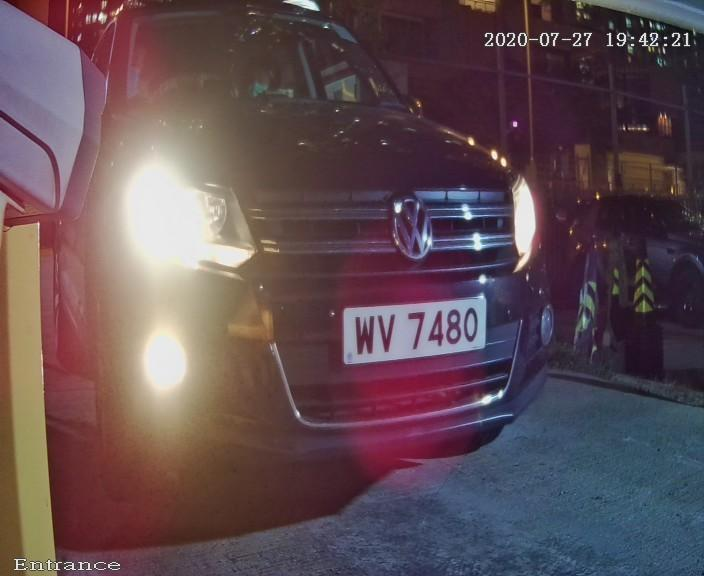privatecar: (82, 21, 566, 505)
